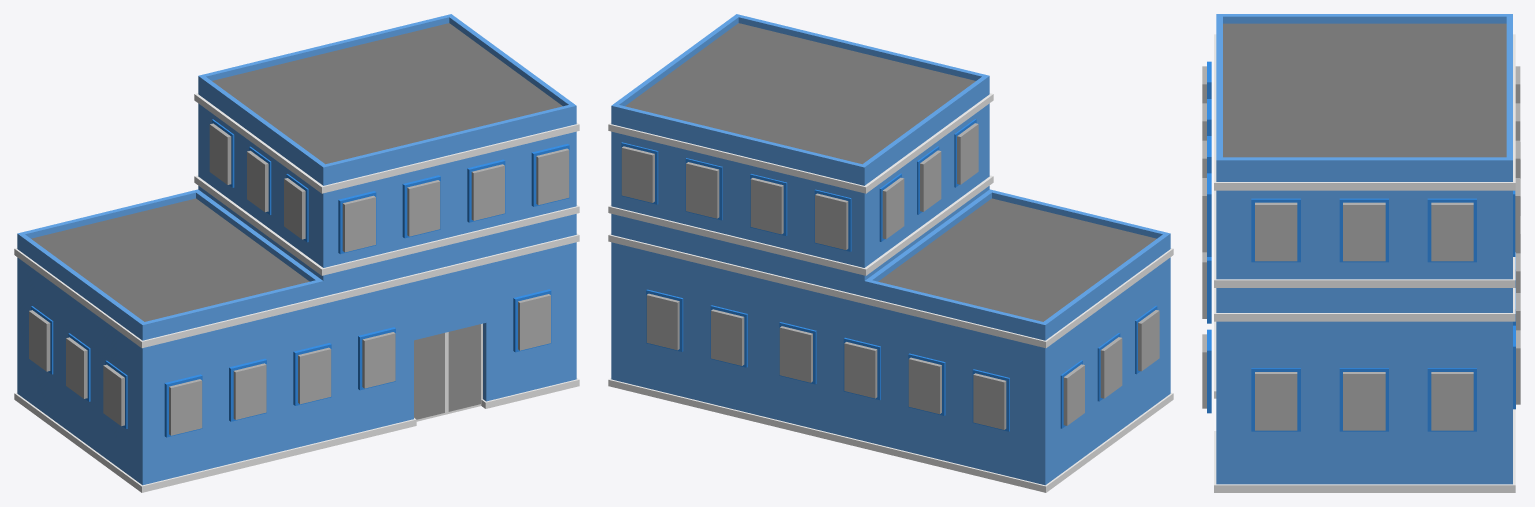
The model's file is SM_House_18_02.FBX.
The picture shows the model from 3 angles, left to right: view 1: azimuth 30°, elevation 25°; view 2: azimuth 150°, elevation 25°; view 3: azimuth 270°, elevation 25°; orthographic projection. The views are drawn at different scales.
Parts seen in each view (by area): view 1: SM_House_18_02; view 2: SM_House_18_02; view 3: SM_House_18_02.
Boxes of the visible parts, bbox=[...] form: SM_House_18_02: bbox=[14, 14, 579, 492]; SM_House_18_02: bbox=[608, 14, 1173, 492]; SM_House_18_02: bbox=[1202, 14, 1520, 492].
Bounding box in the file's own units: 12.29 × 7.4 × 6.44.
1 material, 1 textured.
